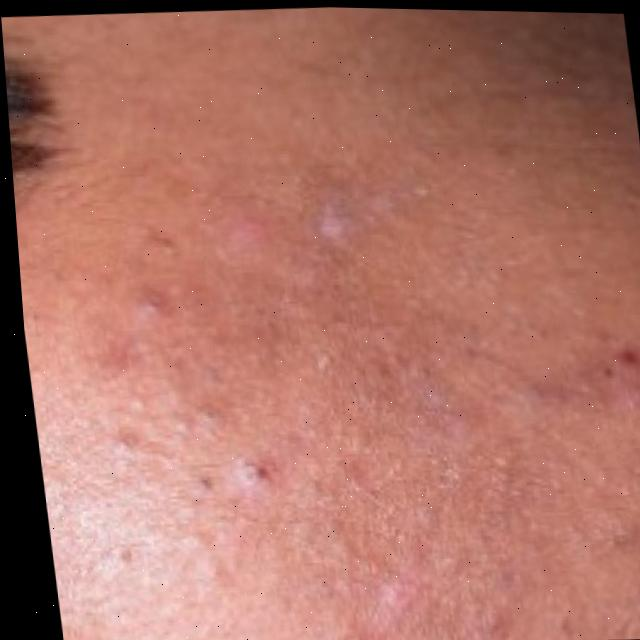Acne: (28, 122, 640, 640)
